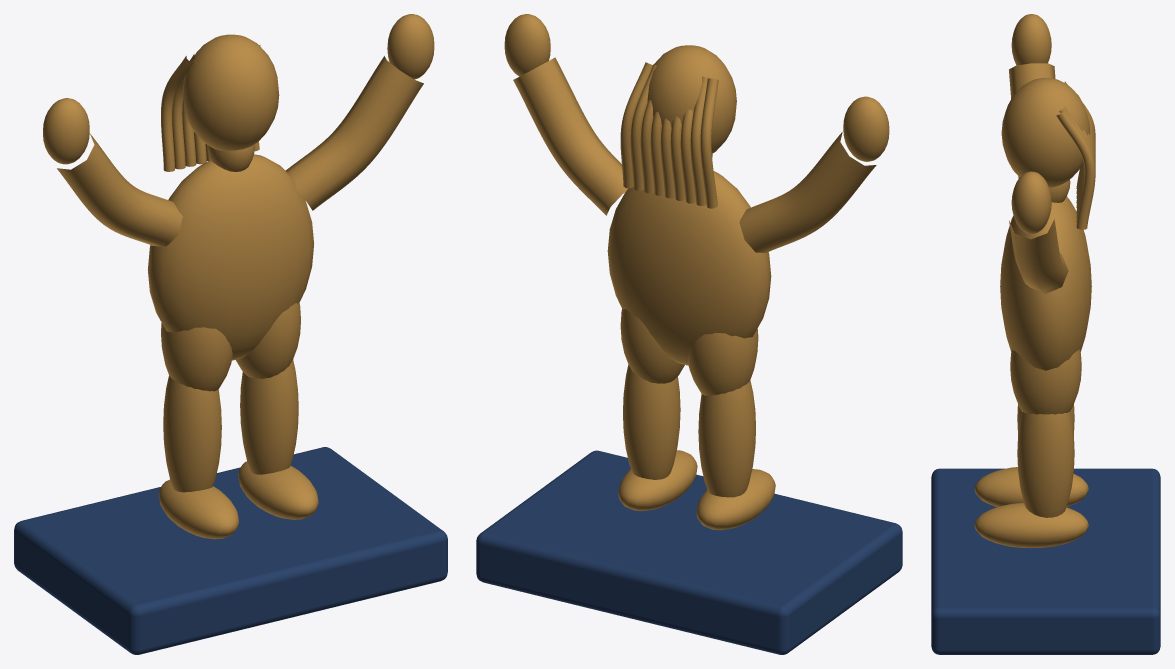
The model's file is blues-footballer.glb.
3 views of the same model, side by side, from view 1: azimuth 30°, elevation 25°; view 2: azimuth 150°, elevation 25°; view 3: azimuth 270°, elevation 25° (orthographic). The views are drawn at different scales.
Bounding box in the file's own units: 2.92 × 3.88 × 1.6.
